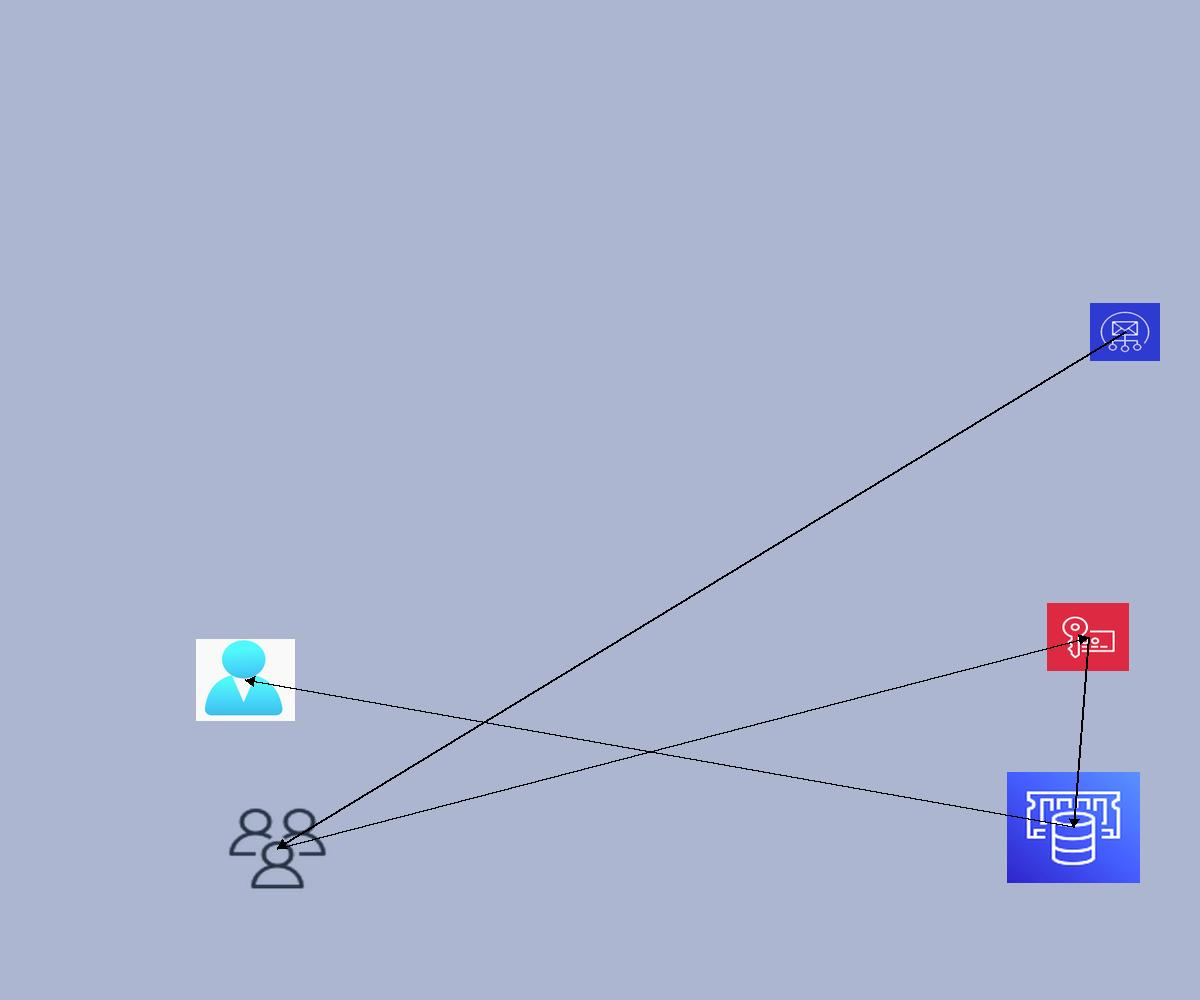AWS-ElastiCache: (1007, 772, 1140, 883)
AWS-Key-Management-Service: (1047, 603, 1129, 671)
AWS-Res_Users: (225, 805, 330, 892)
AWS-Simple-Email-Service: (1090, 303, 1160, 361)
Azure_users: (196, 639, 295, 721)
